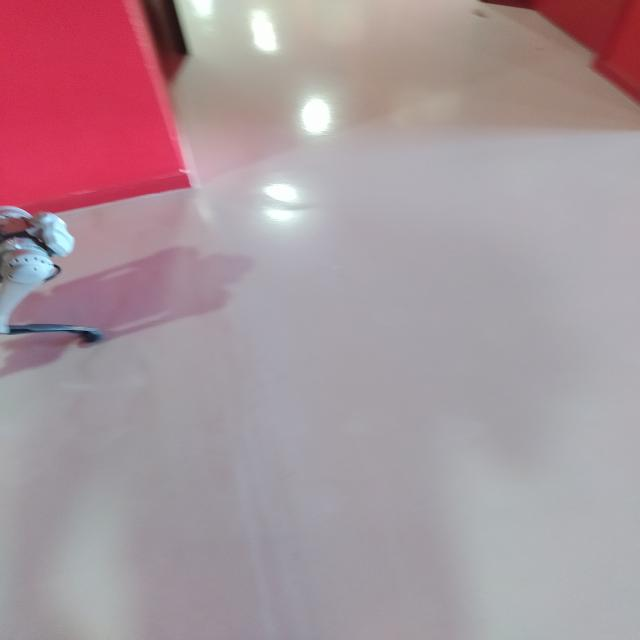unitree-go1-robot: (0, 183, 118, 378)
